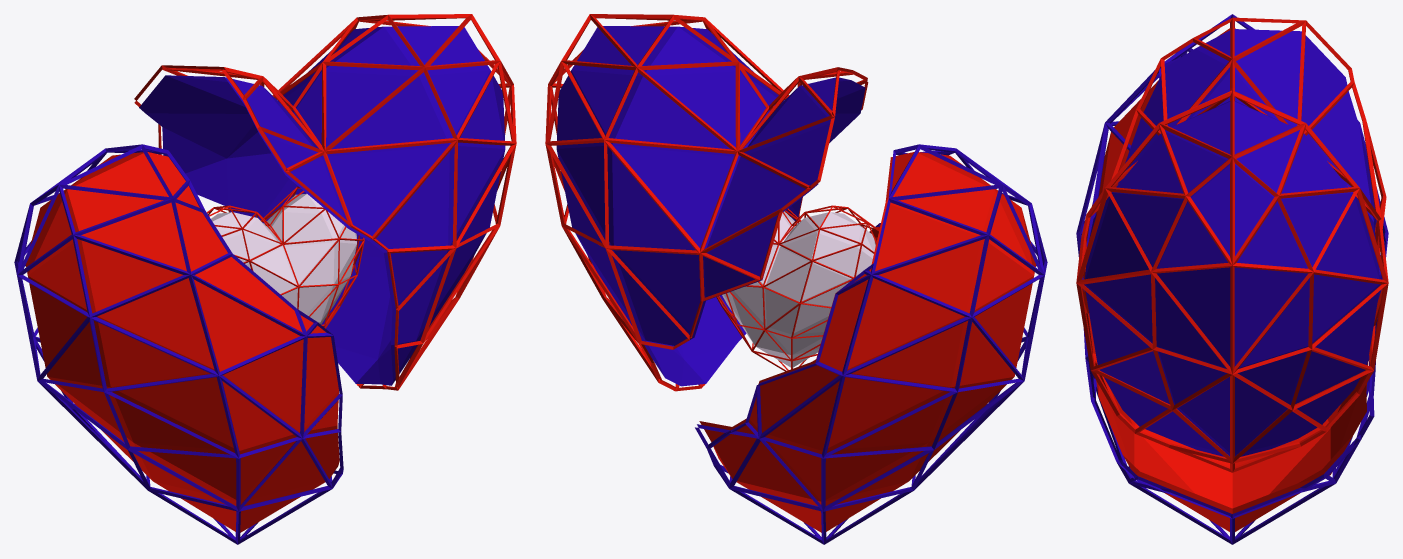
File: asset.glb
3 views of the same model, side by side, from view 1: azimuth 30°, elevation 25°; view 2: azimuth 150°, elevation 25°; view 3: azimuth 270°, elevation 25° (orthographic). The views are drawn at different scales.
Visible parts, largest first — view 1: Cube, Cube.003, Cube.005, Cube.006, Cube.001, Cube.004; view 2: Cube.003, Cube, Cube.005, Cube.006, Cube.001, Cube.004; view 3: Cube.003, Cube.006, Cube, Cube.005.
Boxes of the visible parts, left/top/right/bottom form: Cube: left=26, top=152, right=339, bottom=532; Cube.003: left=139, top=26, right=505, bottom=385; Cube.005: left=14, top=144, right=343, bottom=544; Cube.006: left=134, top=14, right=516, bottom=390; Cube.001: left=211, top=193, right=356, bottom=324; Cube.004: left=207, top=186, right=364, bottom=328; Cube.003: left=556, top=26, right=865, bottom=386; Cube: left=699, top=152, right=1035, bottom=532; Cube.005: left=695, top=144, right=1047, bottom=544; Cube.006: left=545, top=14, right=868, bottom=391; Cube.001: left=722, top=211, right=875, bottom=367; Cube.004: left=716, top=205, right=879, bottom=371; Cube.003: left=1084, top=29, right=1380, bottom=456; Cube.006: left=1076, top=17, right=1388, bottom=472; Cube: left=1086, top=28, right=1376, bottom=531; Cube.005: left=1076, top=14, right=1388, bottom=544.
Size of the model in its own units: 2.53 by 2.4 by 1.28.
